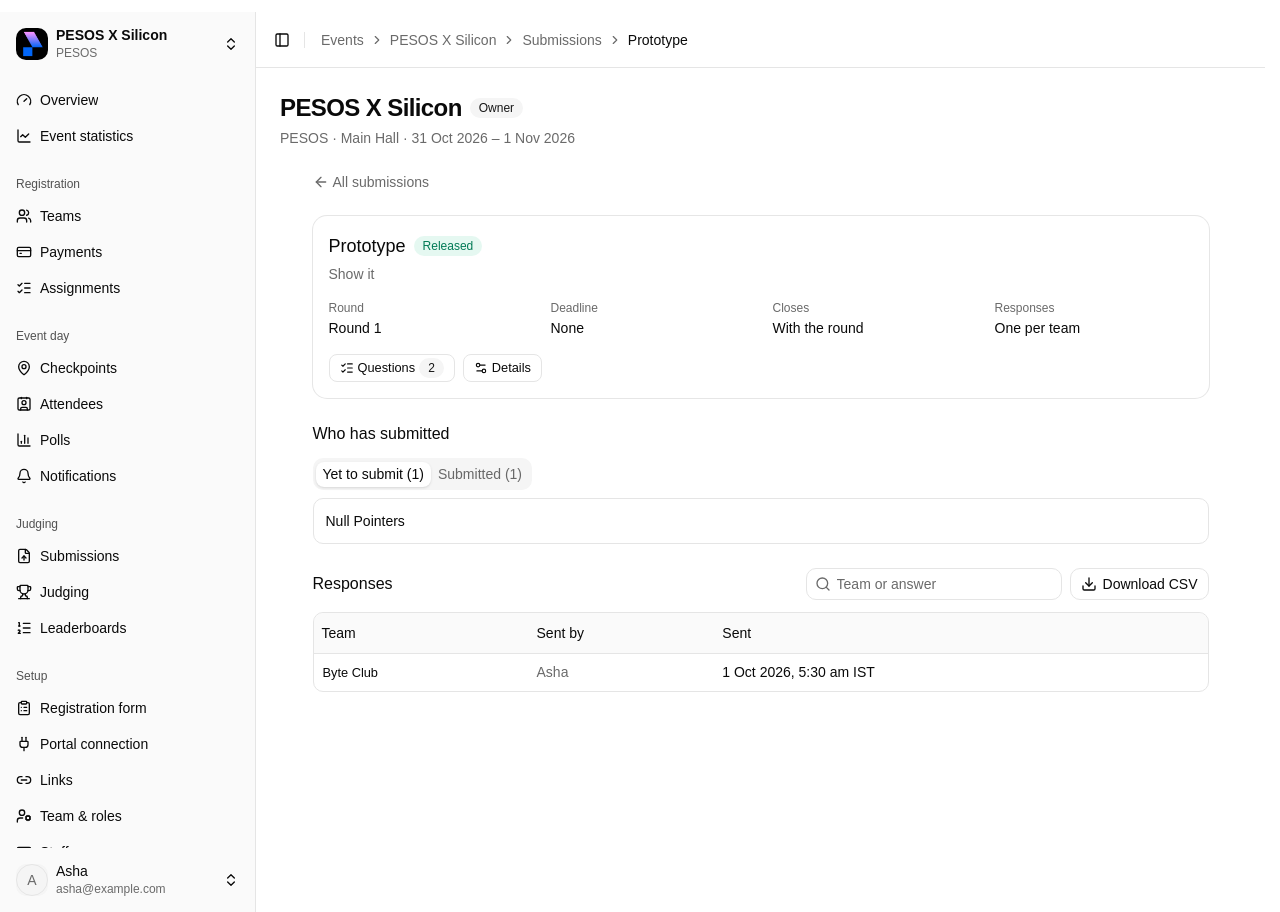
submission detail › shows a card with the details; questions and details have their own pages
Check: the heading "Prototype" is shown, box [328, 232, 406, 260]
Check: the text "One per team" is shown, box [994, 320, 1080, 336]
Click the link "Questions 2" at [392, 368], box [328, 354, 455, 382]
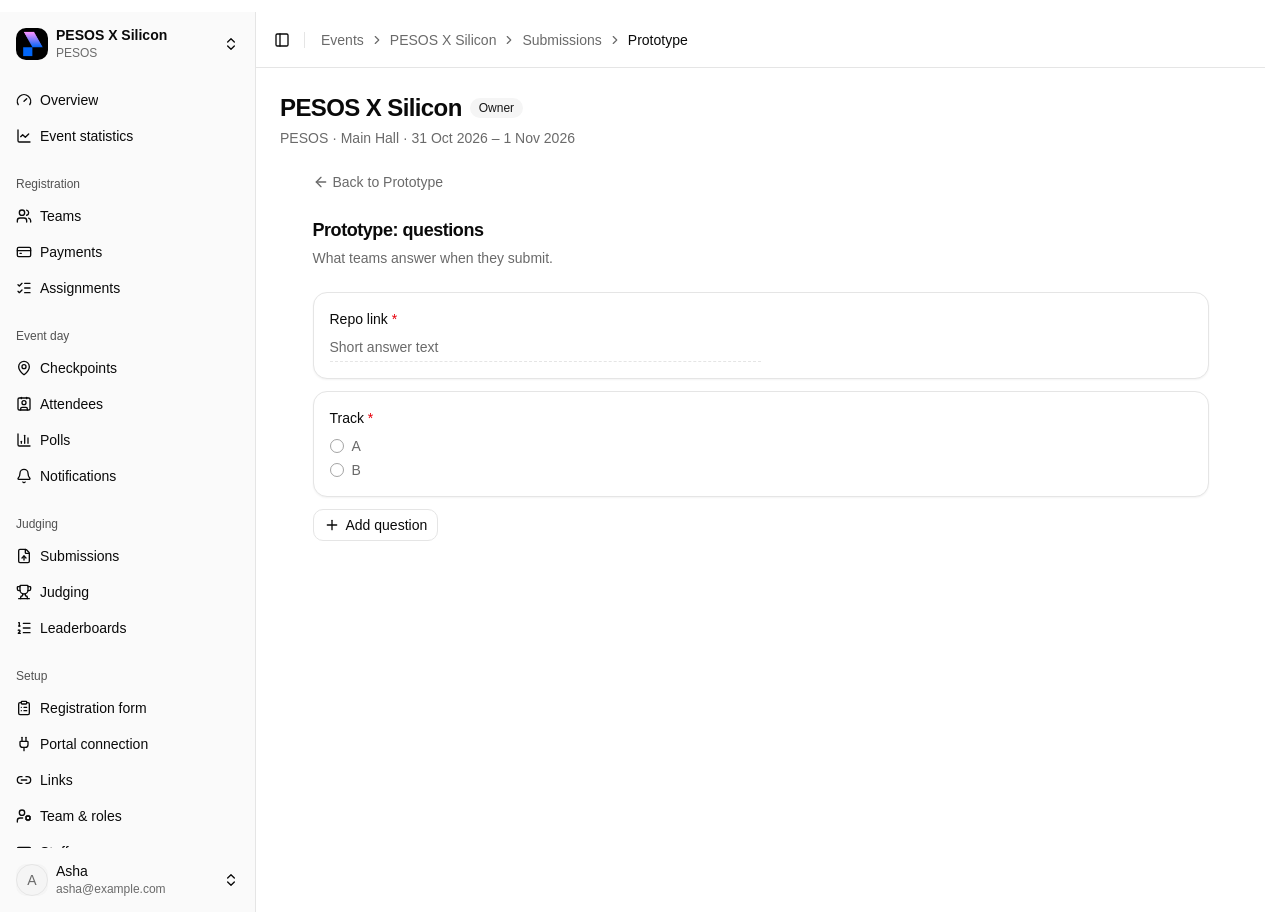
Check: the button with aria-label "Edit Repo link" is shown, box [312, 292, 1208, 379]
Click the link "Back to Prototype" at [378, 182], box [312, 172, 443, 192]
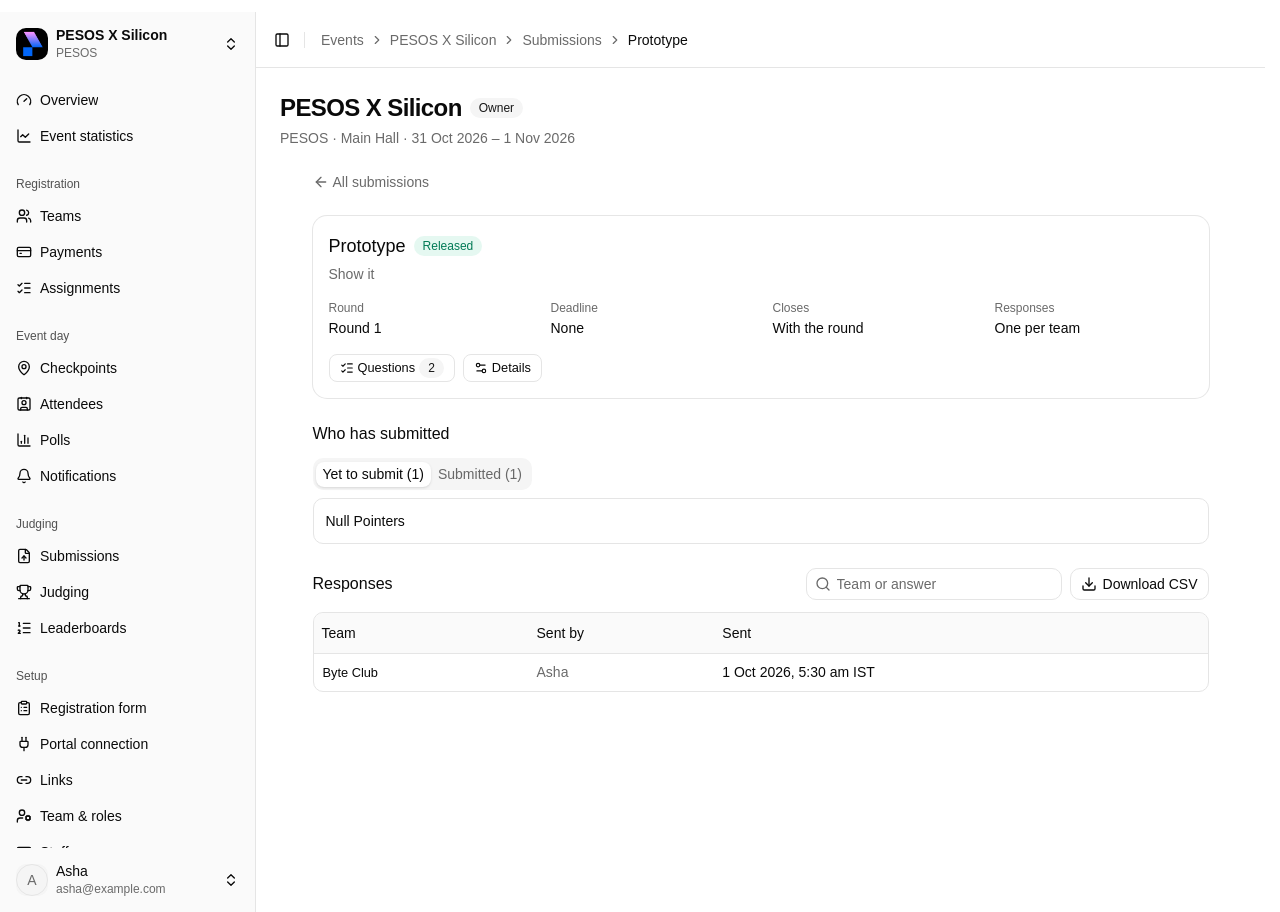
Click the link "Details" at [502, 368], box [463, 354, 542, 382]
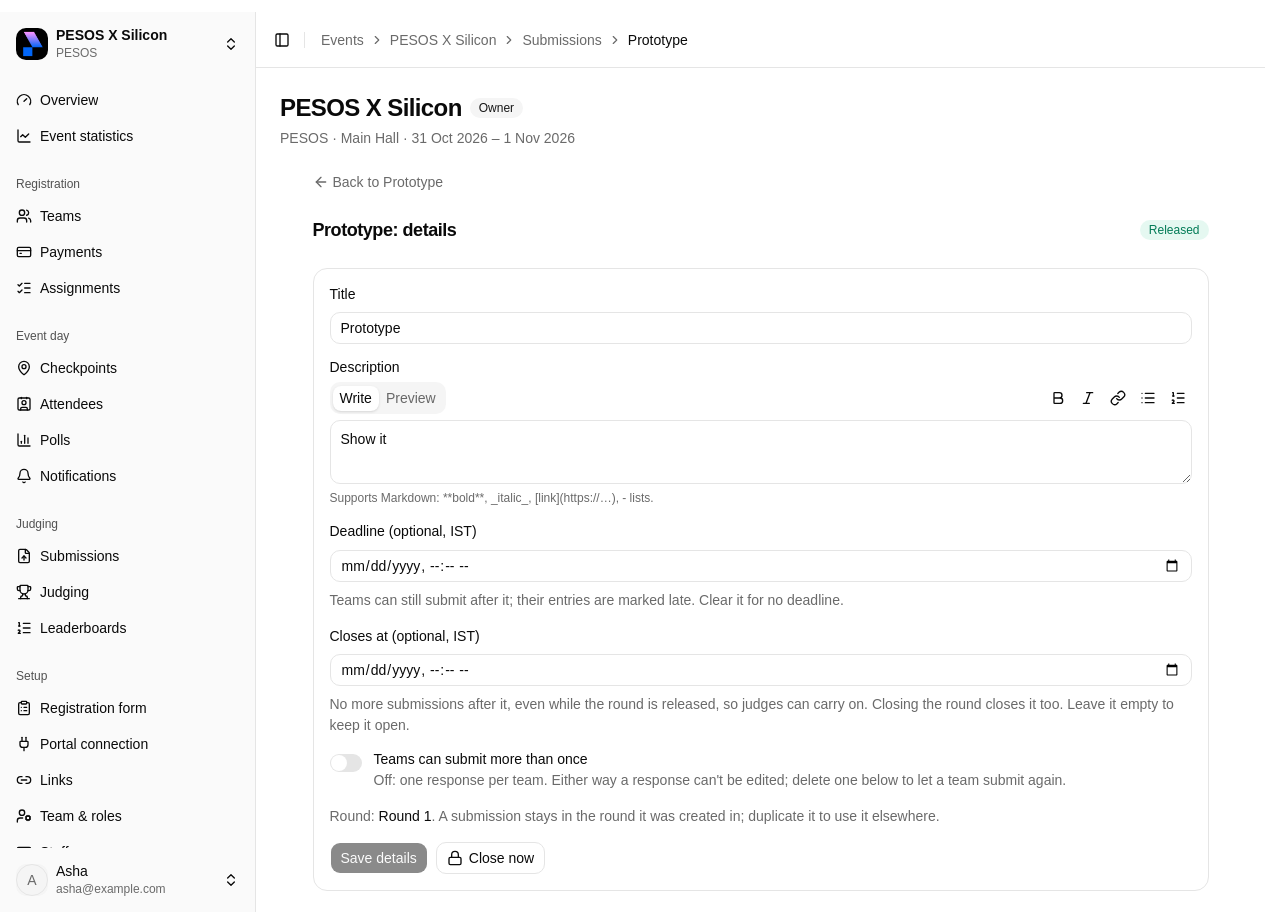
Check: the field labelled "Title" is shown, box [330, 312, 1192, 344]
